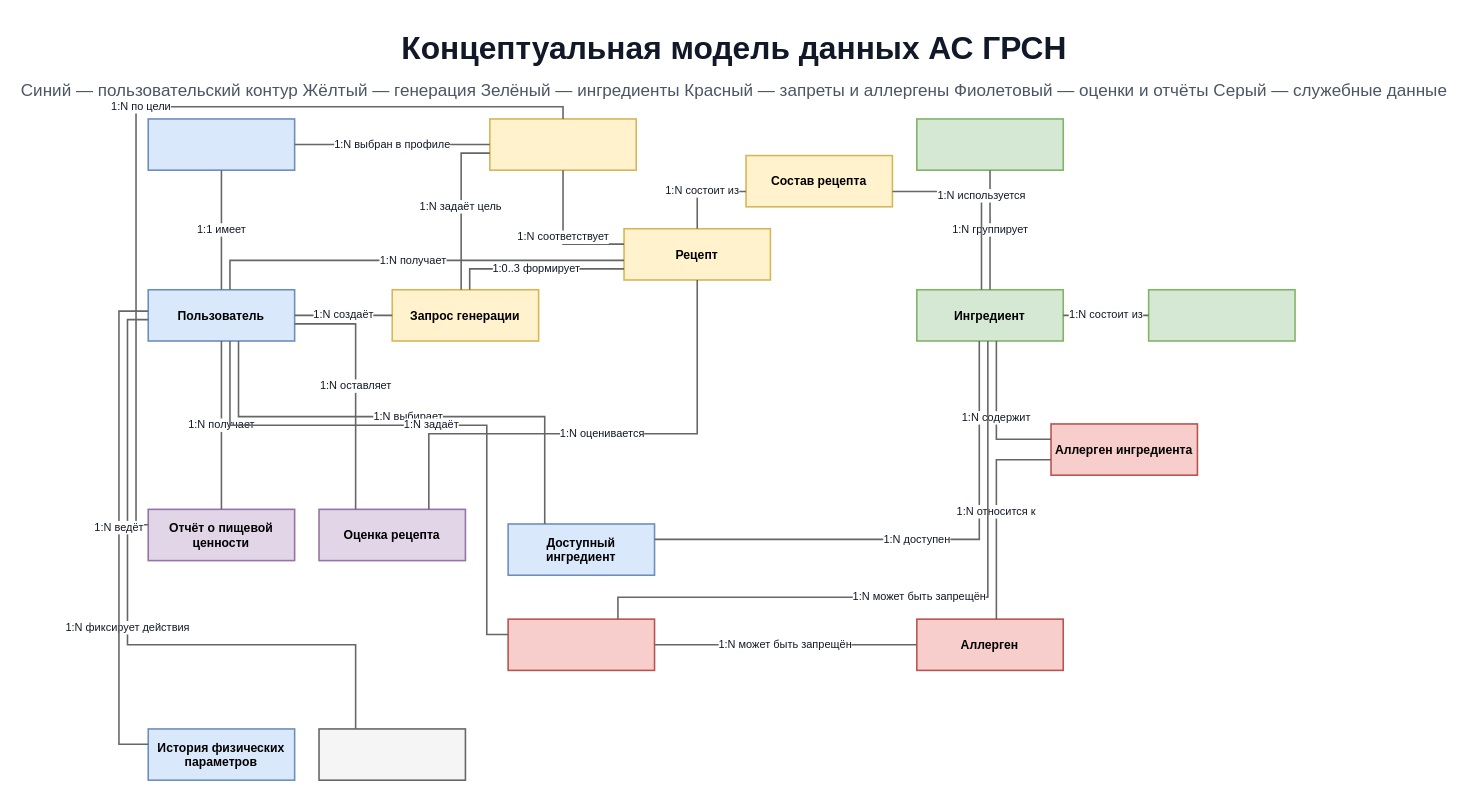
Some shapes in this 1468 by 802 pixel diagram are drawn without their labels. Here are the shapes that lost their labels. From the top down, the centre of each, then its label:
At pixel 221 144: "Профиль пользователя".
At pixel 562 144: "Фитнес-ориентир".
At pixel 989 144: "Категория ингредиента".
At pixel 1221 314: "Компонент составного ингредиента".
At pixel 581 644: "Запрет пользователя".
At pixel 392 754: "Журнал событий".
